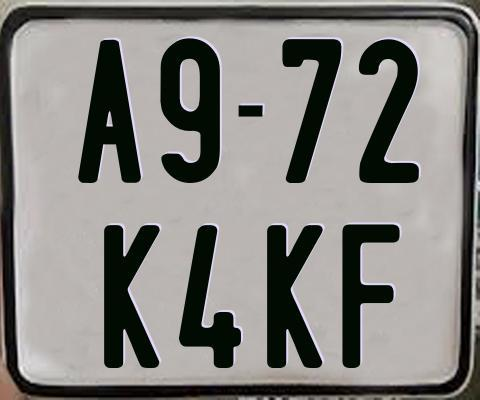2: (357, 38, 419, 187)
4: (178, 225, 243, 371)
7: (280, 36, 344, 183)
9: (158, 36, 218, 181)
A: (76, 39, 142, 187)
F: (342, 221, 401, 368)
K: (101, 222, 159, 370), (265, 225, 322, 373)
